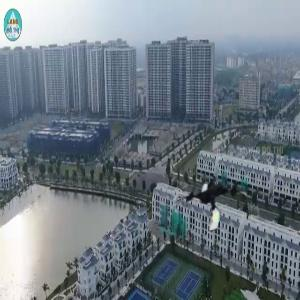drone: (177, 166, 248, 237)
